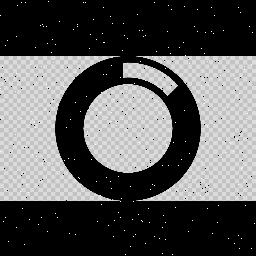o: (52, 56, 208, 200)
